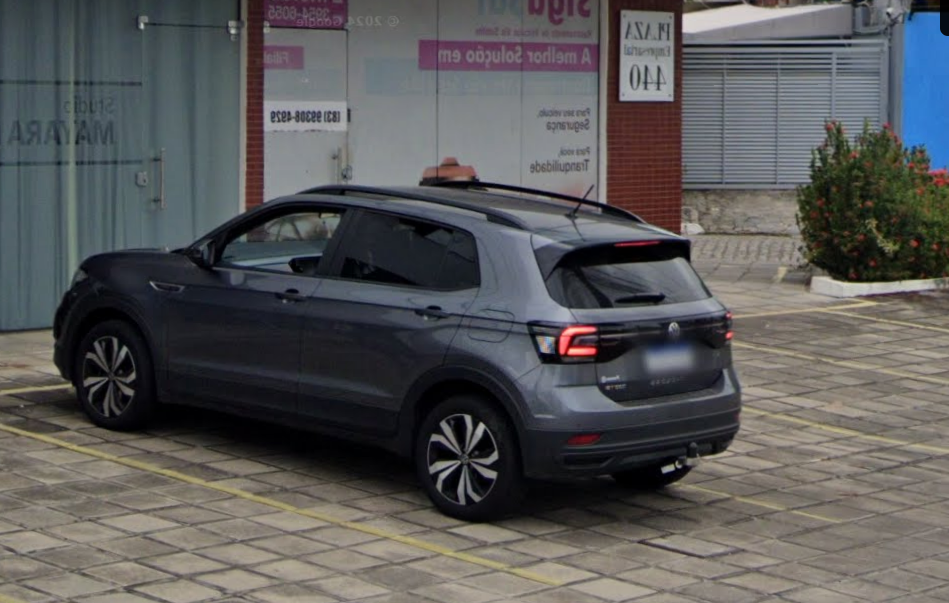car: (51, 165, 744, 526)
